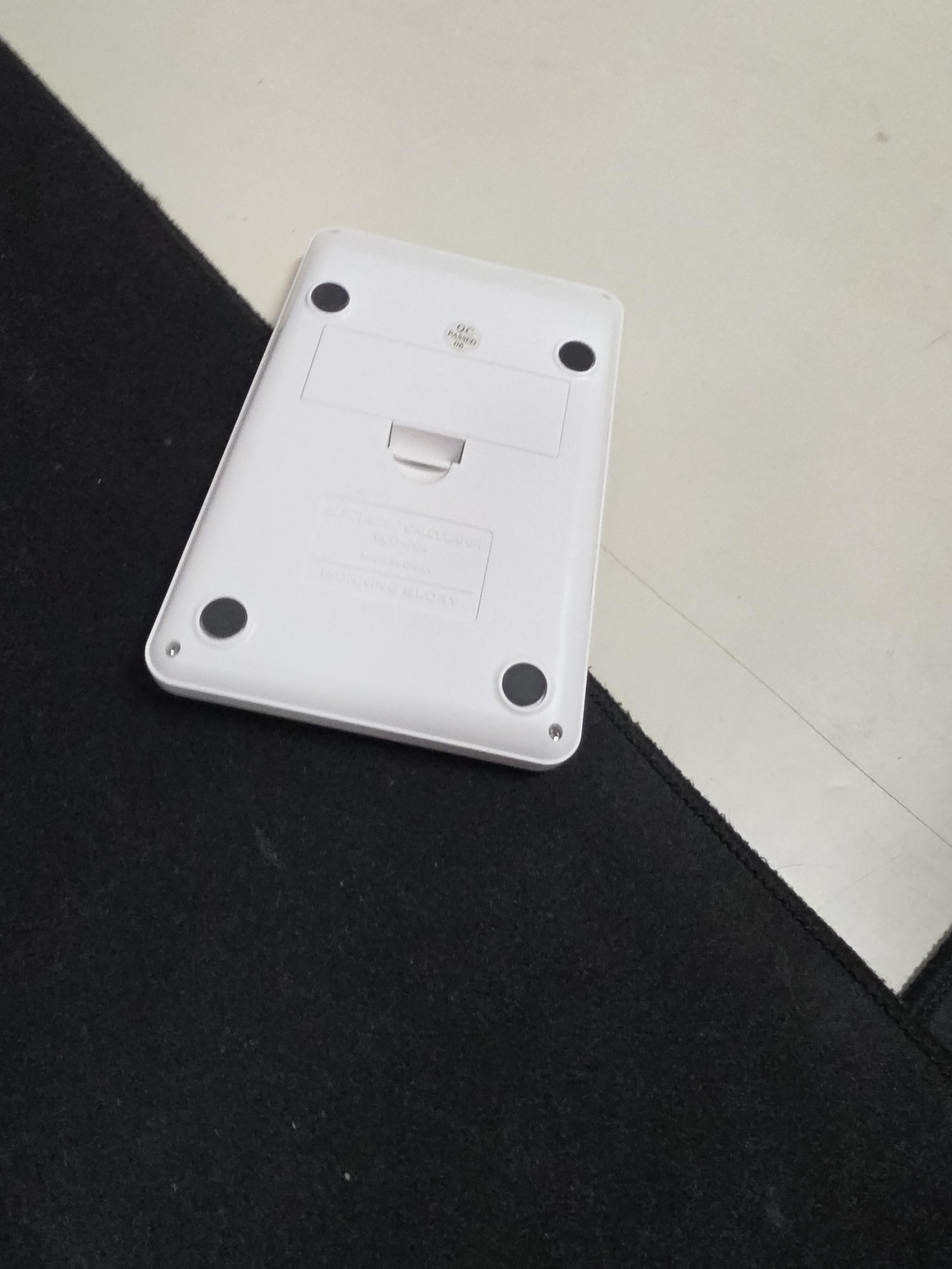calculator: (145, 227, 626, 770)
